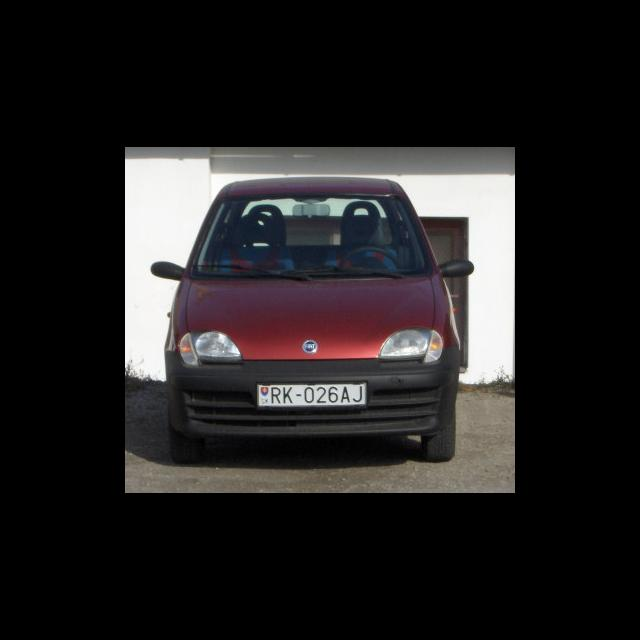Plate: (255, 380, 367, 407)
